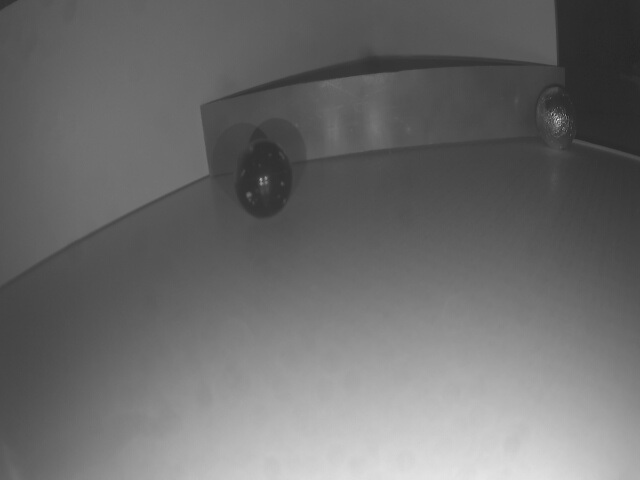Dead: (232, 142, 293, 216)
Green: (205, 67, 564, 178)
Live: (536, 86, 578, 149)
